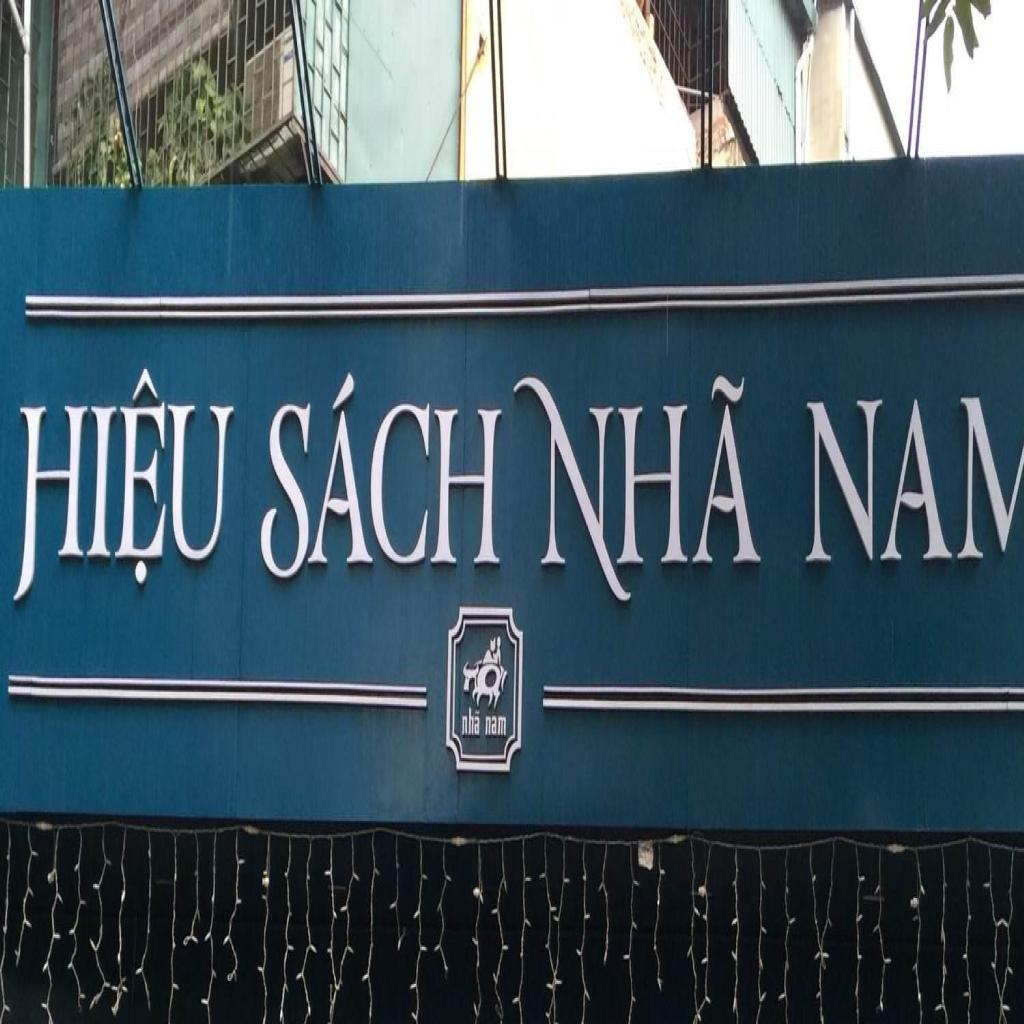text: (507, 363, 768, 612), (10, 363, 238, 612), (257, 364, 508, 584), (803, 390, 956, 570), (461, 706, 481, 740)
